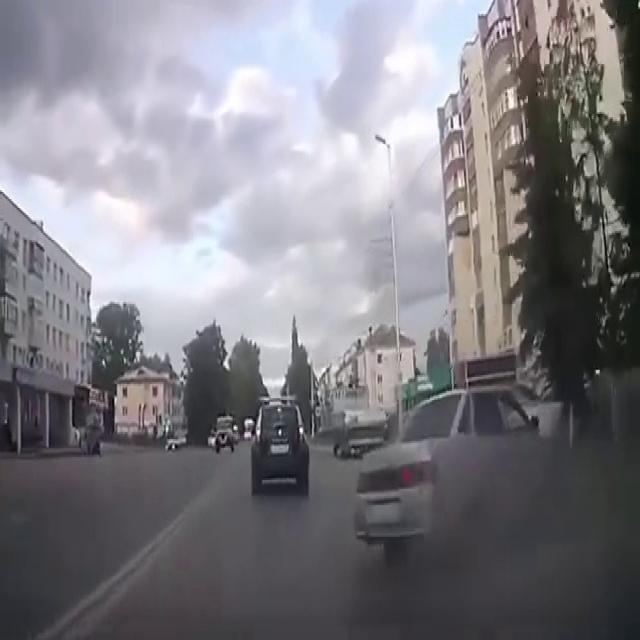moderate: (349, 81, 596, 559)
